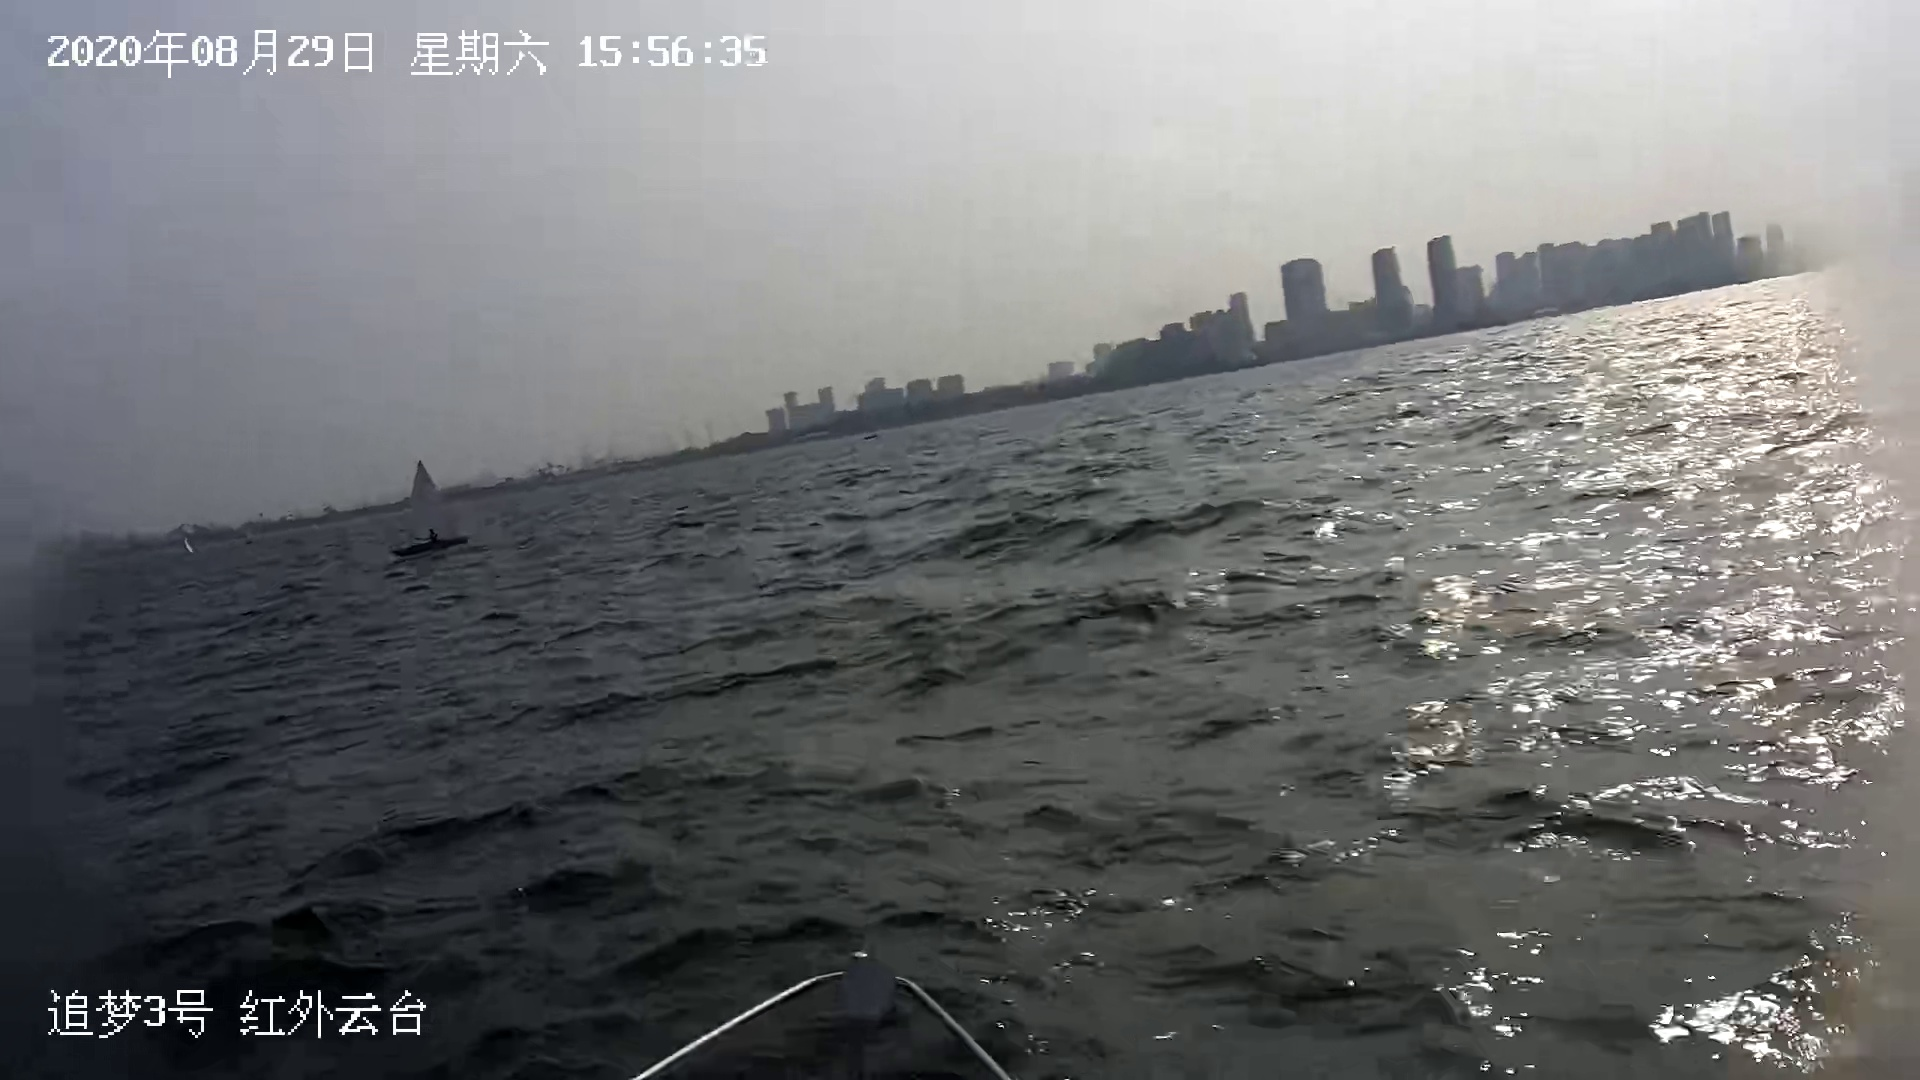barrier: (386, 455, 473, 562)
coast: (1, 204, 1920, 555)
